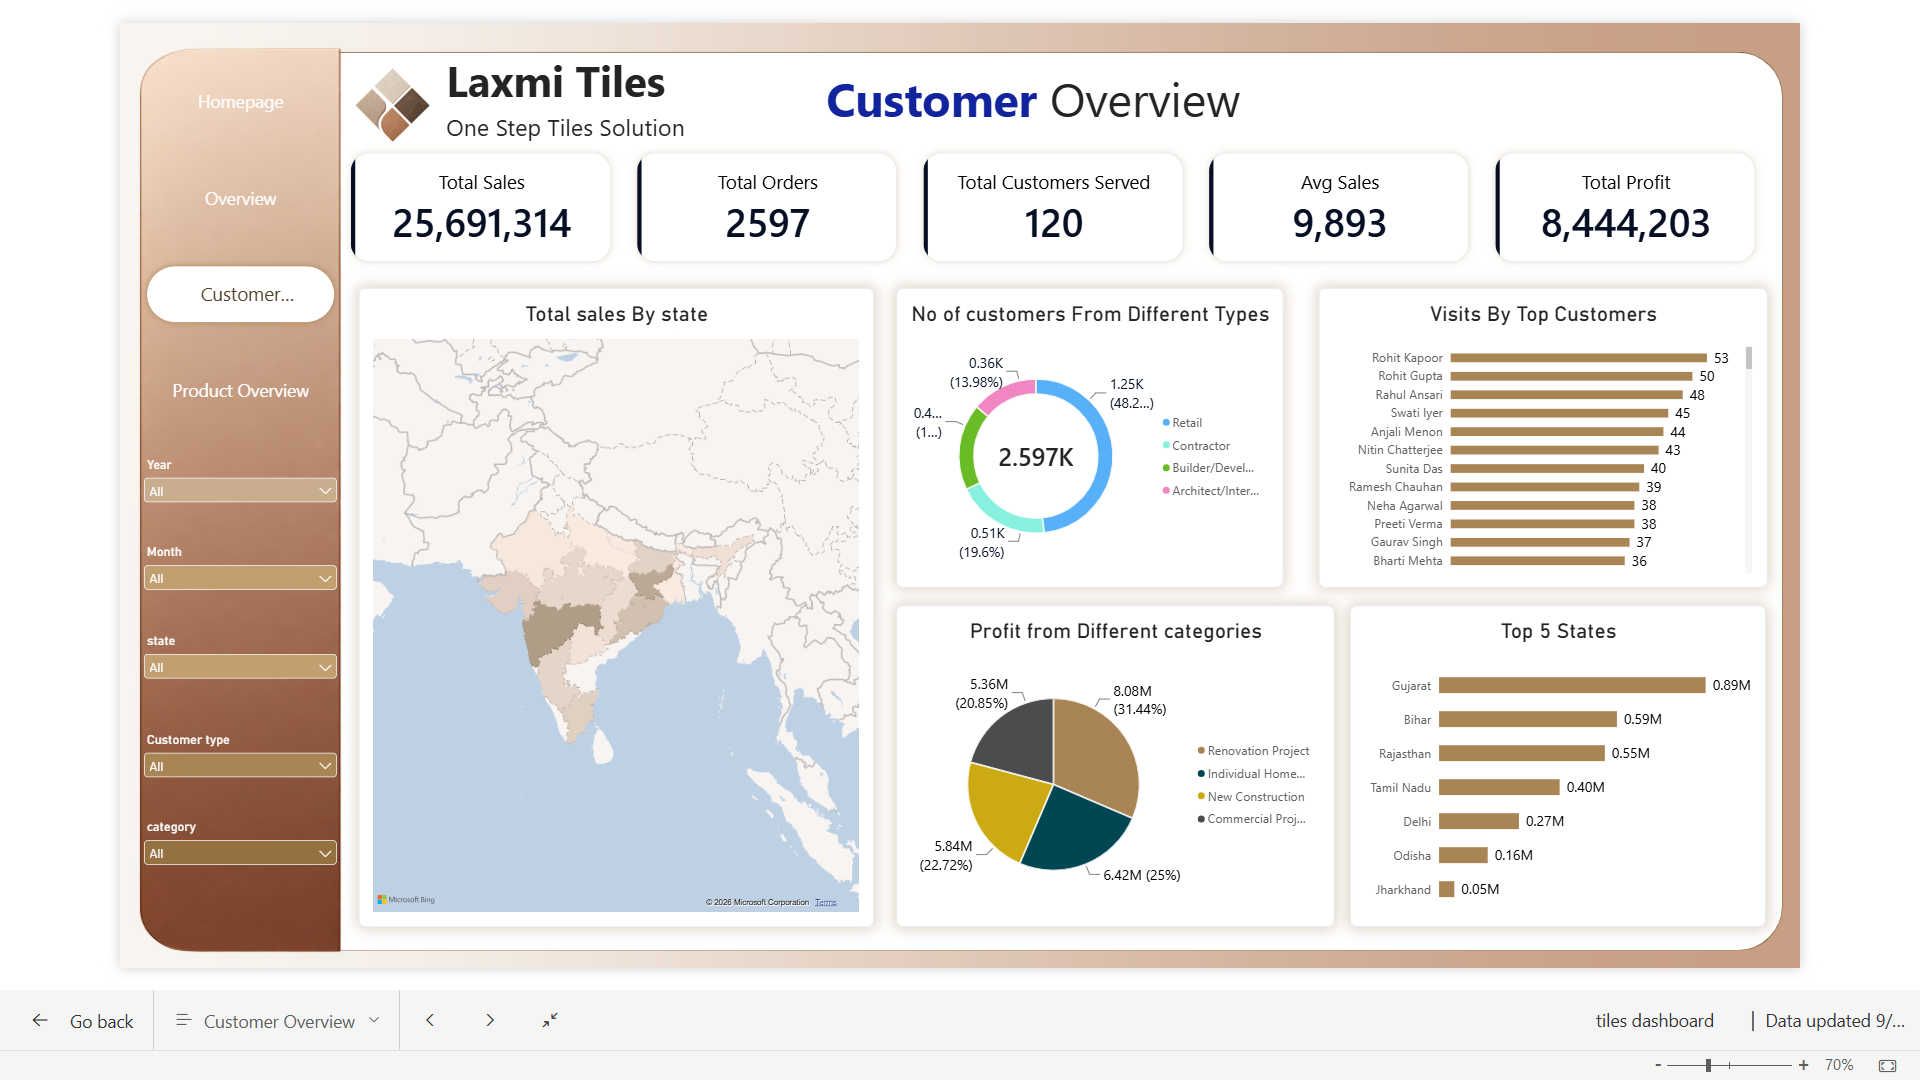

What the dashboard file says about the page in this screenshot:
{"tool":"powerbi","page":{"name":"Customer Overview","canvas":[1920,1080],"ordinal":2},"visuals":[{"type":"shape","box":[22.5,32.5,1877.5,1027.5],"z":1000},{"type":"image","box":[12.5,22.5,925,1045],"z":1500},{"type":"cardVisual","fields":{"Data":["Sum(cleaned_sales.net_amount)","CountNonNull(cleaned_sales.order_id)","Count(cleaned_sales.customer_id)","Avg(cleaned_sales.net_amount)","Sum(cleaned_sales.profit)"]},"box":[252.5,137.5,1630,147.5],"z":2000},{"type":"pieChart","title":"Profit  from Different  categories","fields":{"Category":["cleaned_customers.segment"],"Y":["Sum(cleaned_sales.net_amount)"]},"box":[887,665.7,500.9,367.3],"z":4000},{"type":"donutChart","title":"No of customers From Different Types","fields":{"Category":["cleaned_customers.customer_type"],"Y":["CountNonNull(cleaned_sales.order_id)"]},"box":[887.5,302.5,442.5,342.5],"z":5000},{"type":"filledMap","title":"Total sales By state","fields":{"Category":["cleaned_customers.state"]},"box":[273.4,302.6,588.5,730.4],"z":6000},{"type":"barChart","title":"Top 5 States","fields":{"Category":["cleaned_customers.state"],"Y":["Sum(cleaned_sales.net_amount)"]},"box":[1406,666.1,475.5,366.9],"z":7000},{"type":"slicer","fields":{"Values":["cleaned_sales.order_date.Variation.Date Hierarchy.Year"]},"box":[22.5,495,230,90],"z":8000},{"type":"slicer","fields":{"Values":["cleaned_sales.order_date.Variation.Date Hierarchy.Month"]},"box":[22.5,596.4,229.5,69.7],"z":9000},{"type":"slicer","fields":{"Values":["cleaned_customers.state"]},"box":[22.5,696.8,229.5,73.8],"z":10000},{"type":"slicer","fields":{"Values":["cleaned_customers.customer_type"]},"box":[22.5,809.6,229.5,84],"z":11000},{"type":"slicer","fields":{"Values":["cleaned_products.category"]},"box":[22.5,910,229.5,82],"z":12000},{"type":"barChart","title":"Visits By Top Customers","fields":{"Category":["cleaned_customers.customer_name"],"Y":["CountNonNull(cleaned_sales.order_id)"]},"box":[1370,302.5,512.5,342.5],"z":13000},{"type":"textbox","box":[807.7,50.1,538.4,87.7],"z":14000},{"type":"pageNavigator","box":[22.5,50,230,412.5],"z":15000},{"type":"textbox","box":[372.5,32.5,290,67.5],"z":16000},{"type":"textbox","box":[372.5,100,435,77.5],"z":17000},{"type":"image","box":[235,32.5,152.5,125],"z":18000}]}

Visuals, with their boxes on the page's 1920x1080 design canvas (x1, y1, x2, y2). These are canvas units, not pixel positions in the 1920x1080 screenshot, which may show the page scaled, cropped or inside an application window:
shape: select_region(22, 32, 1900, 1060)
image: select_region(12, 22, 938, 1068)
cardVisual - Sum(cleaned_sales.net_amount) x CountNonNull(cleaned_sales.order_id): select_region(252, 138, 1882, 285)
"Profit  from Different  categories" pieChart: select_region(887, 666, 1388, 1033)
"No of customers From Different Types" donutChart: select_region(888, 302, 1330, 645)
"Total sales By state" filledMap: select_region(273, 303, 862, 1033)
"Top 5 States" barChart: select_region(1406, 666, 1882, 1033)
slicer - cleaned_sales.order_date.Variation.Date Hierarchy.Year: select_region(22, 495, 252, 585)
slicer - cleaned_sales.order_date.Variation.Date Hierarchy.Month: select_region(22, 596, 252, 666)
slicer - cleaned_customers.state: select_region(22, 697, 252, 771)
slicer - cleaned_customers.customer_type: select_region(22, 810, 252, 894)
slicer - cleaned_products.category: select_region(22, 910, 252, 992)
"Visits By Top Customers" barChart: select_region(1370, 302, 1882, 645)
textbox: select_region(808, 50, 1346, 138)
pageNavigator: select_region(22, 50, 252, 462)
textbox: select_region(372, 32, 662, 100)
textbox: select_region(372, 100, 808, 178)
image: select_region(235, 32, 388, 158)
